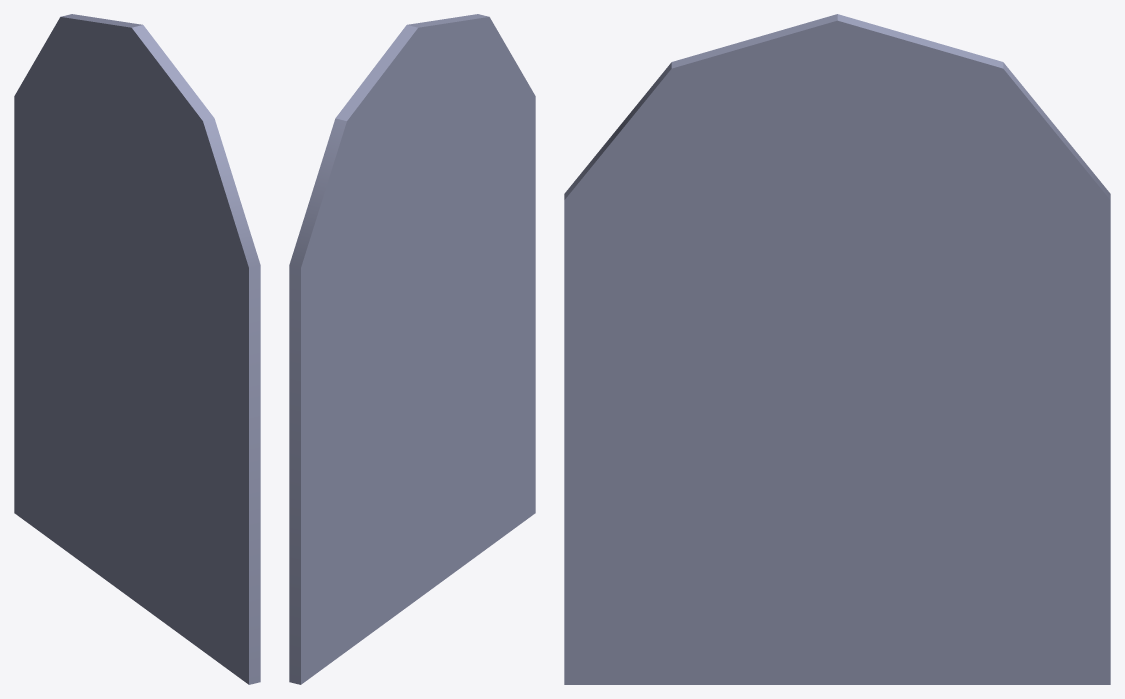
Rendered from Window_Glass.fbx.
The picture shows the model from 3 angles, left to right: view 1: azimuth 30°, elevation 25°; view 2: azimuth 150°, elevation 25°; view 3: azimuth 270°, elevation 25°; orthographic projection. The views are drawn at different scales.
Parts seen in each view (by area): view 1: Window_Glass; view 2: Window_Glass; view 3: Window_Glass.
Boxes of the visible parts, x1,y1,x2,y2 form: Window_Glass: (14,14,260,684); Window_Glass: (289,14,535,684); Window_Glass: (564,14,1110,684).
Size of the model in its own units: 0.0195 by 0.9148 by 0.6816.
